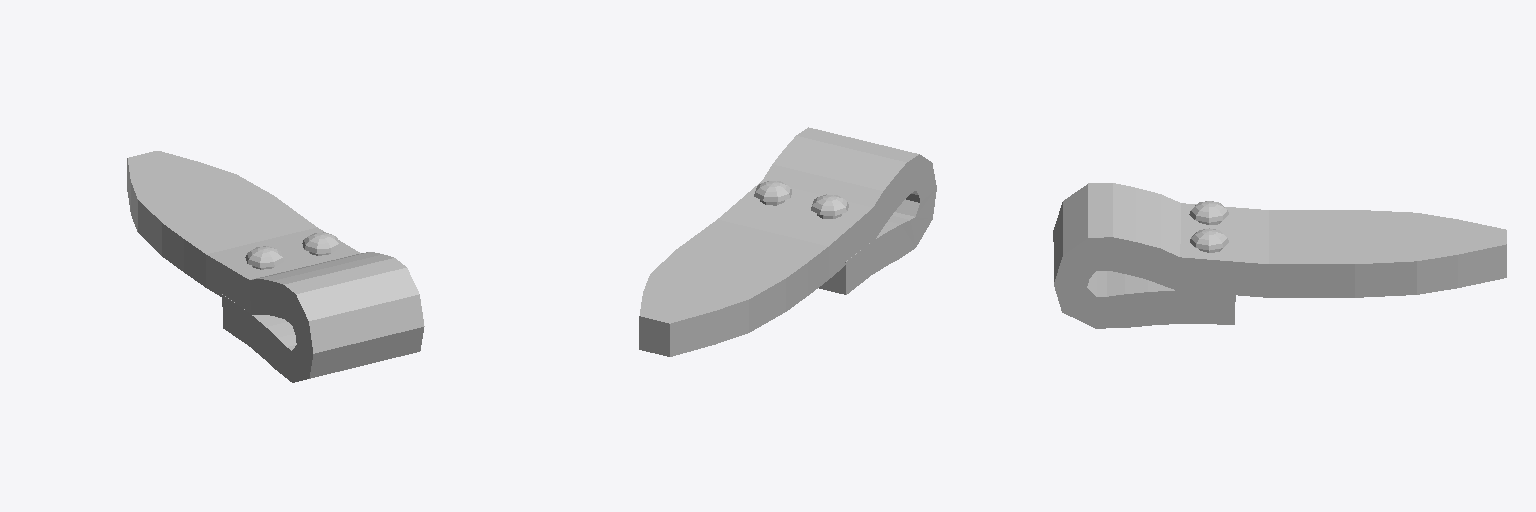
Rendered from beltBasicGeo.obj.
3 renders of one model, left to right at view 1: azimuth 30°, elevation 25°; view 2: azimuth 150°, elevation 25°; view 3: azimuth 270°, elevation 25°, orthographic.
Parts seen in each view (by area): view 1: pCube1, pSphere1, pSphere2; view 2: pCube1, pSphere2, pSphere1; view 3: pCube1, pSphere1, pSphere2.
Boxes of the visible parts, x1=… form: pCube1: x1=127, y1=151, x2=424, y2=382; pSphere1: x1=245, y1=246, x2=283, y2=269; pSphere2: x1=302, y1=232, x2=340, y2=255; pCube1: x1=639, y1=127, x2=936, y2=356; pSphere2: x1=754, y1=181, x2=791, y2=205; pSphere1: x1=811, y1=194, x2=848, y2=218; pCube1: x1=1053, y1=183, x2=1506, y2=328; pSphere1: x1=1189, y1=201, x2=1228, y2=224; pSphere2: x1=1190, y1=228, x2=1228, y2=252.
Bounding box in the file's own units: 0.9919 × 0.7781 × 3.48.